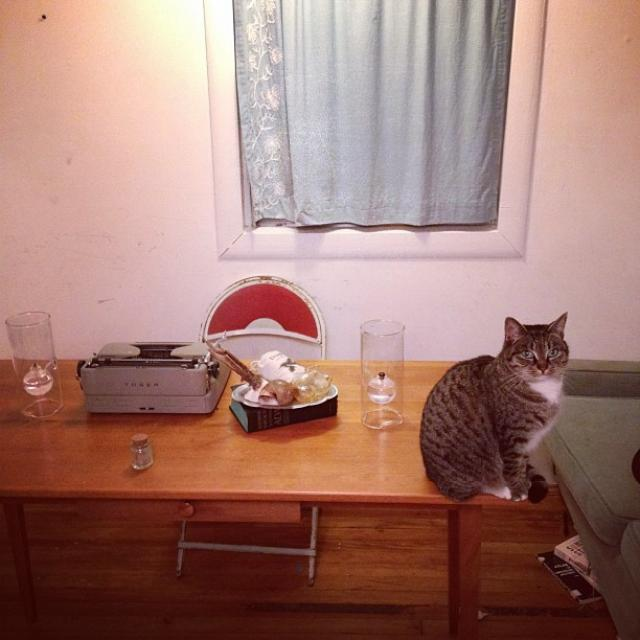cats: (417, 309, 577, 502)
